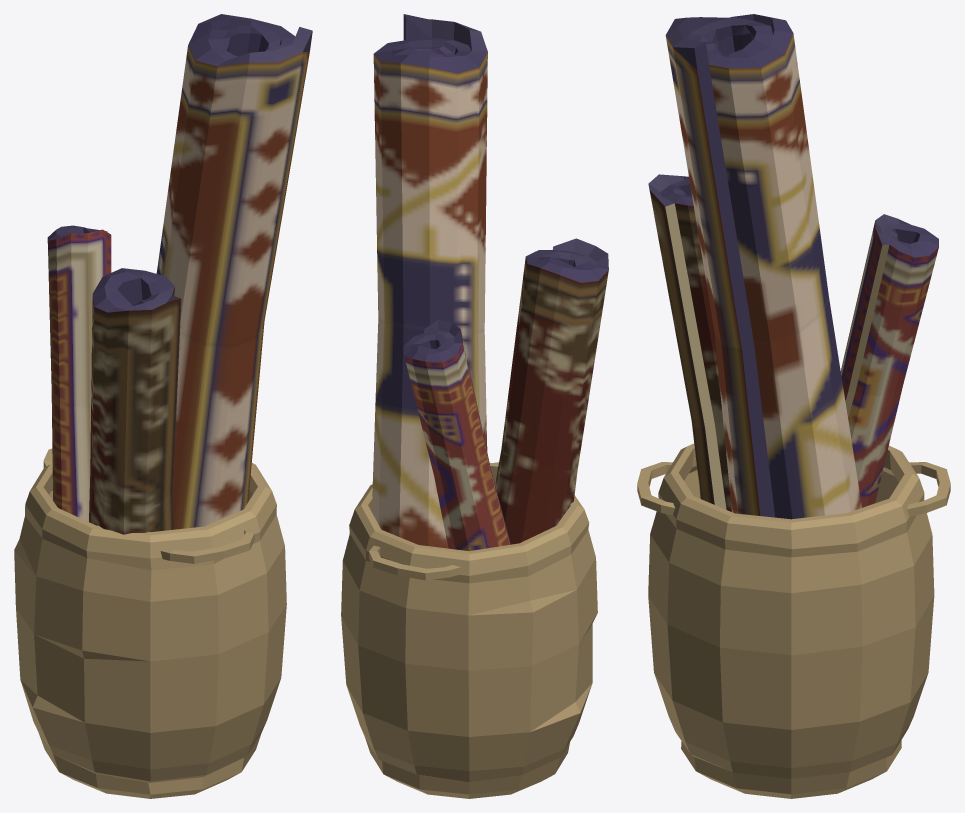
File: SM_Prop_Rug_Basket_01.fbx
3 views of the same model, side by side, from view 1: azimuth 30°, elevation 25°; view 2: azimuth 150°, elevation 25°; view 3: azimuth 270°, elevation 25° (orthographic). The views are drawn at different scales.
Visible parts, largest first — view 1: SM_Prop_Rug_Basket_01; view 2: SM_Prop_Rug_Basket_01; view 3: SM_Prop_Rug_Basket_01.
Boxes of the visible parts, <box> form: SM_Prop_Rug_Basket_01: <box>14,14,312,798</box>; SM_Prop_Rug_Basket_01: <box>341,14,608,798</box>; SM_Prop_Rug_Basket_01: <box>637,14,950,798</box>.
Bounding box in the file's own units: 93.64 × 280 × 103.
